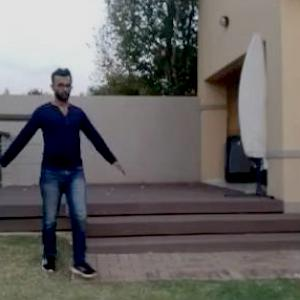land: (0, 69, 119, 281)
